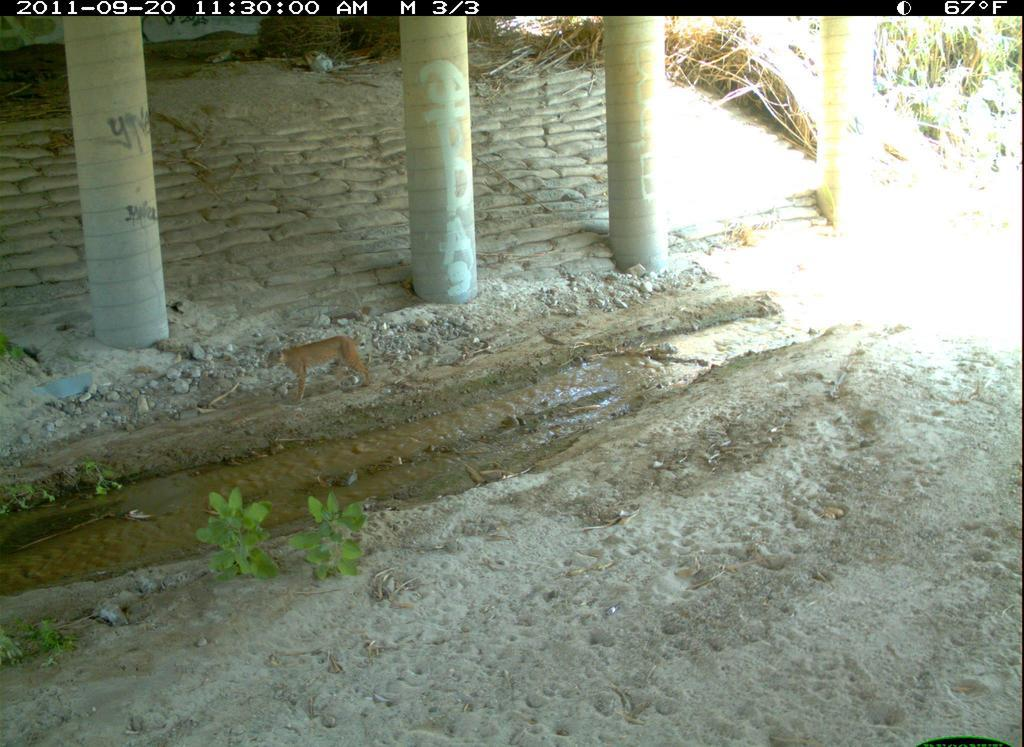bobcat: (524, 658, 758, 747)
